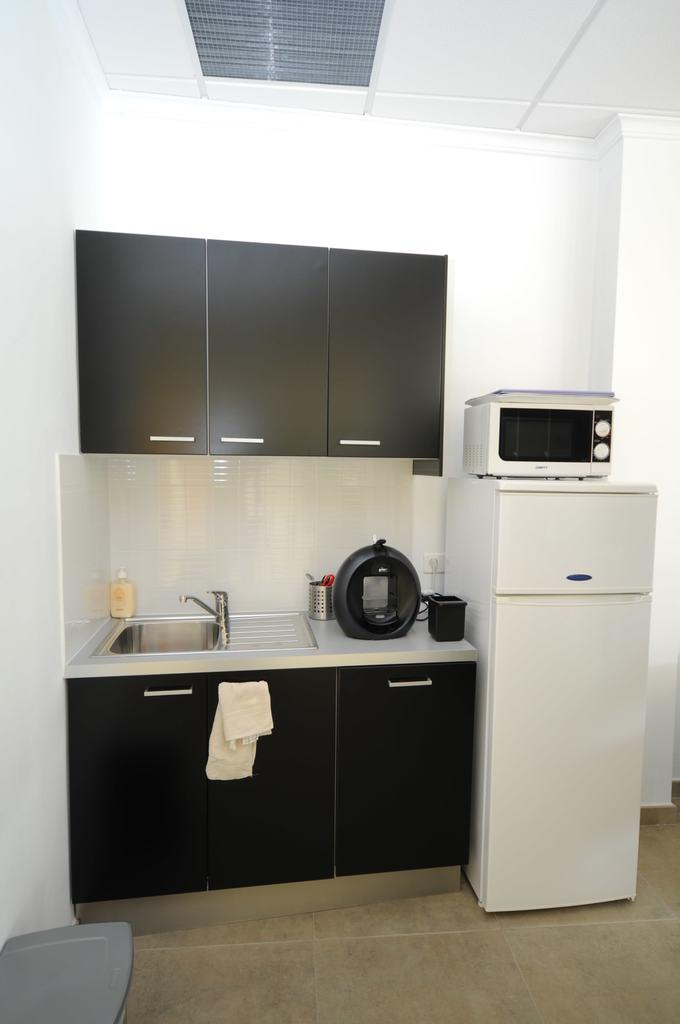cabinet_door: (73, 238, 207, 452), (74, 676, 202, 874), (338, 674, 475, 846), (207, 253, 330, 444), (328, 258, 443, 456), (207, 686, 334, 860)
handle: (136, 670, 200, 706), (144, 420, 200, 458), (340, 418, 384, 452), (386, 670, 434, 698), (218, 424, 264, 450), (564, 566, 596, 596)
